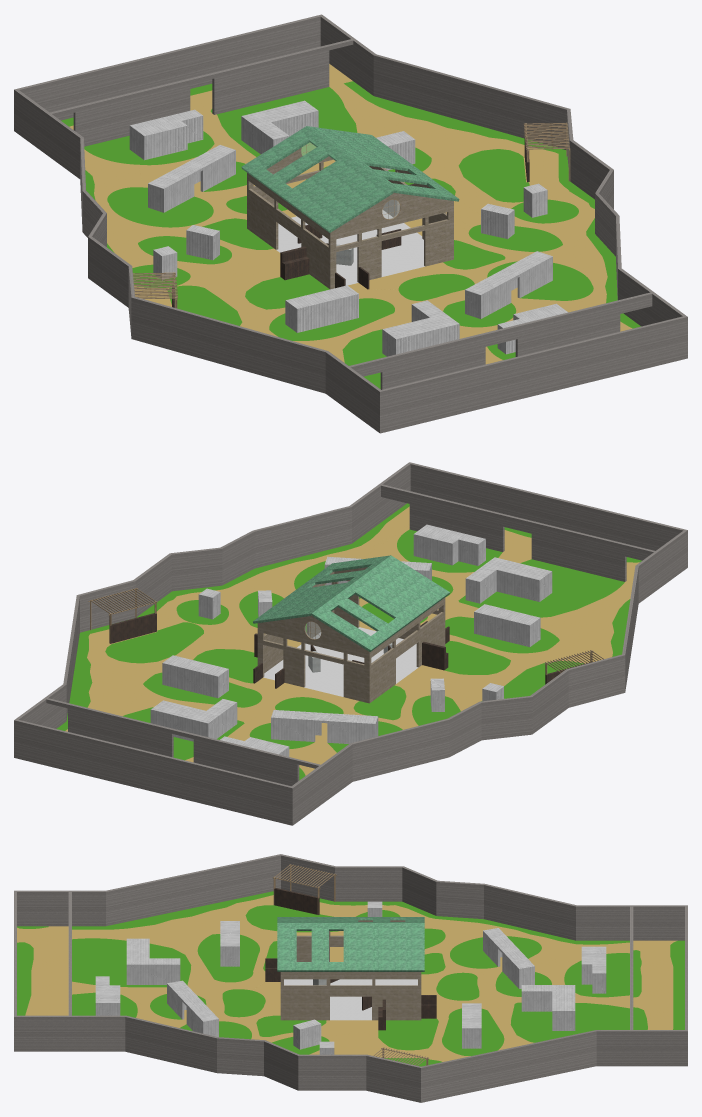
The model's file is GamePlay.fbx.
3 renders of one model, top to bottom at view 1: azimuth 30°, elevation 25°; view 2: azimuth 150°, elevation 25°; view 3: azimuth 270°, elevation 25°, orthographic. The views are drawn at different scales.
Parts seen in each view (by area): view 1: Siding - Medium, Grass - Green, Stucco - Yellow Rough, Roof - Corrugated Sheet Matte, Roof - Asphalt Shingle Drop, Wood - Oak Light, Tiles - White Matte 15x15, Wood - Pine Grained Horizontal, Wood - Walnut Vertical; view 2: Siding - Medium, Grass - Green, Stucco - Yellow Rough, Roof - Corrugated Sheet Matte, Roof - Asphalt Shingle Drop, Wood - Oak Light, Tiles - White Matte 15x15, Wood - Walnut Vertical, Wood - Pine Grained Horizontal; view 3: Siding - Medium, Grass - Green, Stucco - Yellow Rough, Roof - Corrugated Sheet Matte, Roof - Asphalt Shingle Drop, Wood - Oak Light, Wood - Walnut Vertical, Tiles - White Matte 15x15, Wood - Pine Grained Horizontal.
Part boxes in pixels (left/top/right/bottom): Siding - Medium: left=14, top=14, right=687, bottom=433; Grass - Green: left=61, top=81, right=640, bottom=388; Stucco - Yellow Rough: left=69, top=64, right=632, bottom=364; Roof - Corrugated Sheet Matte: left=129, top=100, right=567, bottom=356; Roof - Asphalt Shingle Drop: left=241, top=126, right=459, bottom=232; Wood - Oak Light: left=247, top=147, right=453, bottom=289; Tiles - White Matte 15x15: left=276, top=210, right=424, bottom=285; Wood - Pine Grained Horizontal: left=133, top=122, right=570, bottom=308; Wood - Walnut Vertical: left=172, top=137, right=529, bottom=307; Siding - Medium: left=14, top=462, right=687, bottom=825; Grass - Green: left=56, top=503, right=641, bottom=780; Stucco - Yellow Rough: left=65, top=506, right=639, bottom=775; Roof - Corrugated Sheet Matte: left=150, top=524, right=552, bottom=756; Roof - Asphalt Shingle Drop: left=253, top=555, right=449, bottom=651; Wood - Oak Light: left=257, top=567, right=445, bottom=703; Tiles - White Matte 15x15: left=263, top=627, right=418, bottom=696; Wood - Walnut Vertical: left=110, top=613, right=589, bottom=688; Wood - Pine Grained Horizontal: left=88, top=588, right=603, bottom=674; Siding - Medium: left=14, top=854, right=687, bottom=1102; Grass - Green: left=17, top=891, right=684, bottom=1066; Stucco - Yellow Rough: left=17, top=895, right=677, bottom=1061; Roof - Corrugated Sheet Matte: left=95, top=901, right=606, bottom=1054; Roof - Asphalt Shingle Drop: left=277, top=917, right=424, bottom=971; Wood - Oak Light: left=280, top=920, right=421, bottom=1020; Wood - Walnut Vertical: left=265, top=888, right=436, bottom=1030; Tiles - White Matte 15x15: left=284, top=979, right=417, bottom=1020; Wood - Pine Grained Horizontal: left=272, top=864, right=428, bottom=1065.
Size of the model in its own units: 6587 by 8765 by 1055.
